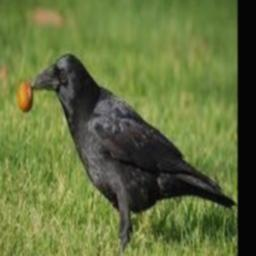Crow: (30, 51, 237, 252)
